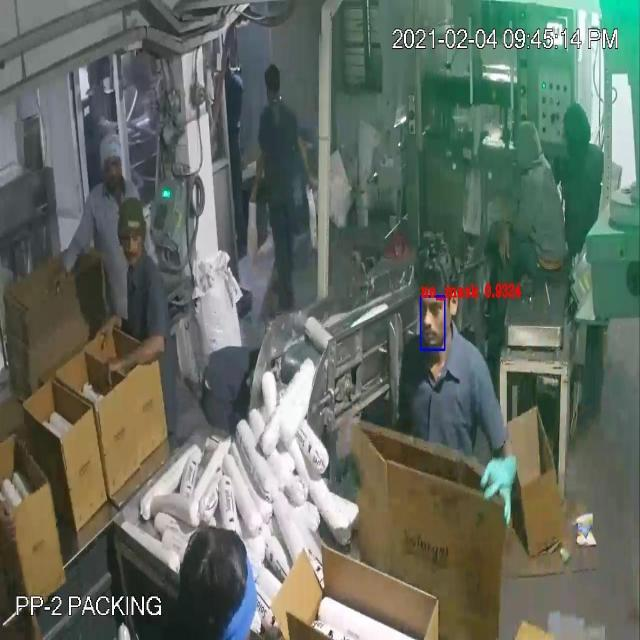Gloves: (20, 46, 507, 490)
